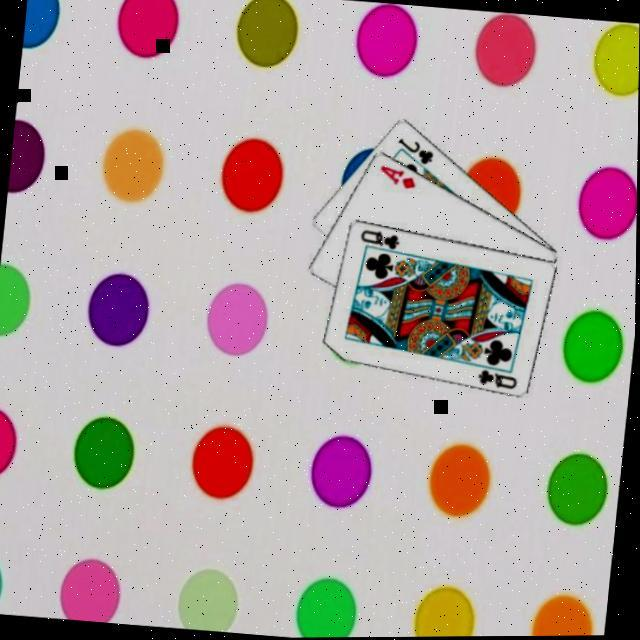AD: (377, 163, 422, 193)
JC: (395, 135, 440, 169)
QC: (475, 367, 522, 393), (359, 227, 405, 253)
